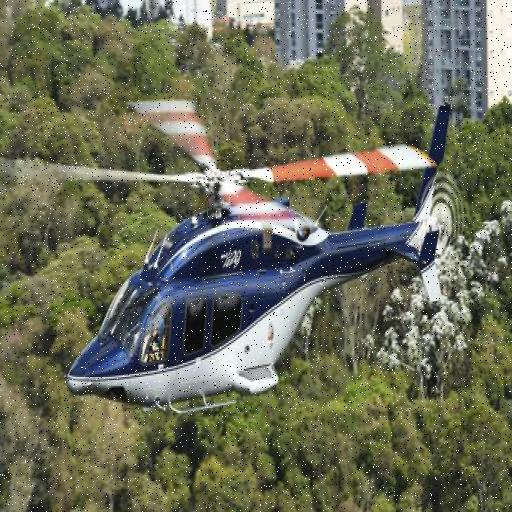helicopter: (56, 60, 461, 434)
